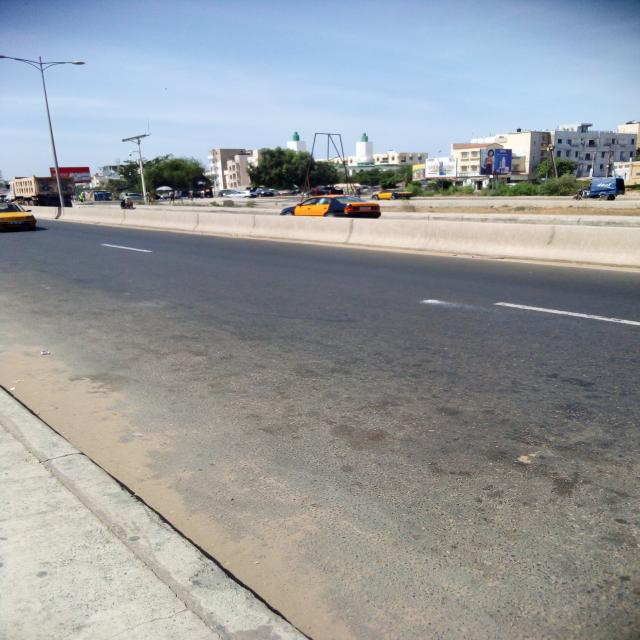camion: (11, 177, 78, 208)
moto: (121, 198, 136, 210)
moto tricycle: (574, 179, 626, 201)
particulier: (311, 187, 344, 197), (228, 191, 259, 199), (256, 190, 278, 199)
taxi: (281, 196, 383, 220), (1, 204, 38, 231), (373, 190, 414, 201)
